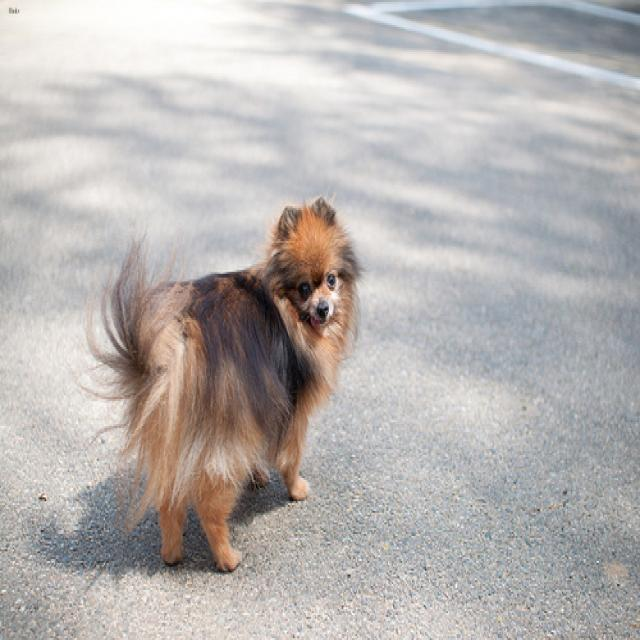dog-pomeranian: (81, 179, 370, 578)
